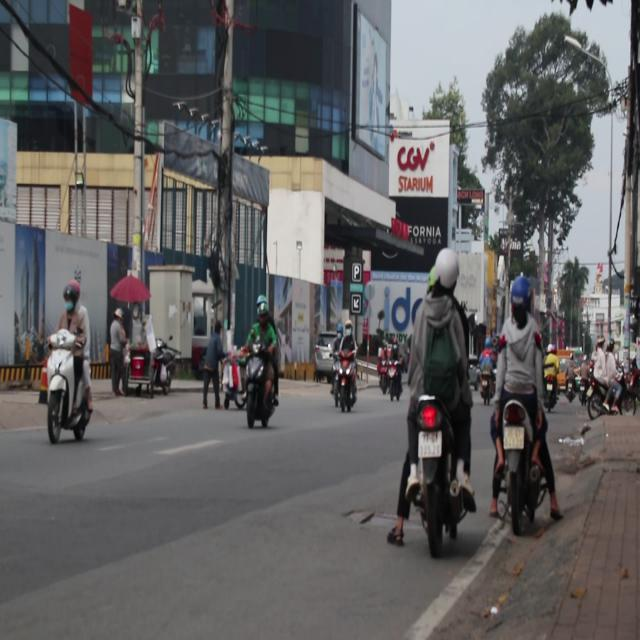car: (313, 332, 338, 371)
motorbike: (389, 393, 472, 557), (491, 388, 563, 542), (42, 333, 94, 446), (240, 348, 280, 431), (335, 350, 359, 424), (148, 340, 178, 396)
